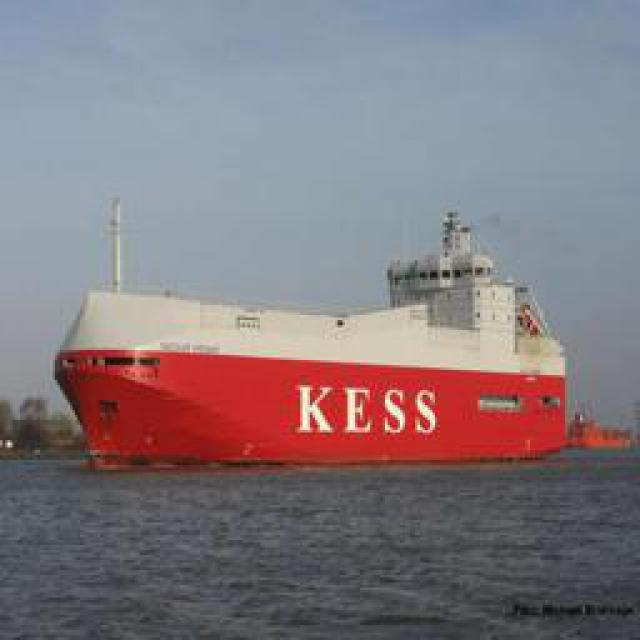Ship: (59, 195, 574, 465)
